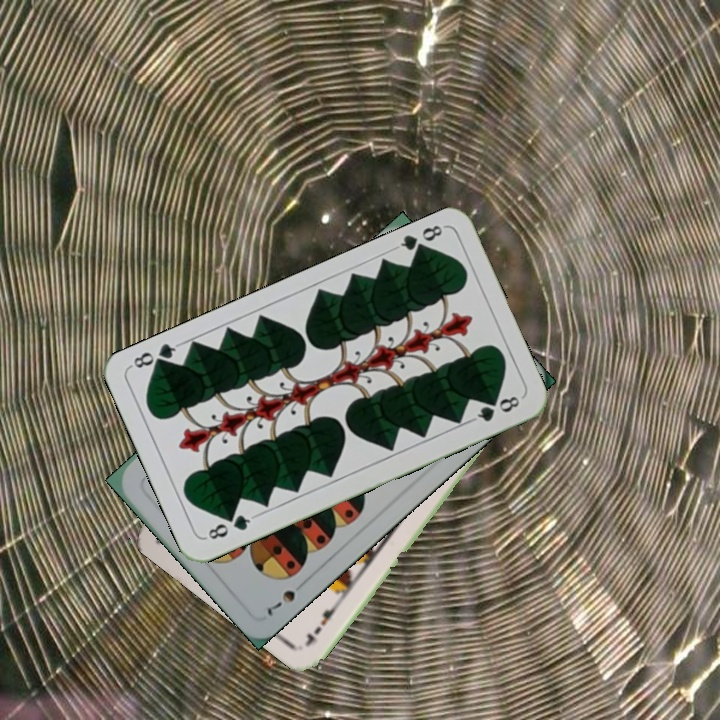E7: (301, 597, 343, 649)
G8: (391, 220, 447, 259), (201, 510, 257, 543)
S7: (263, 586, 298, 618)
